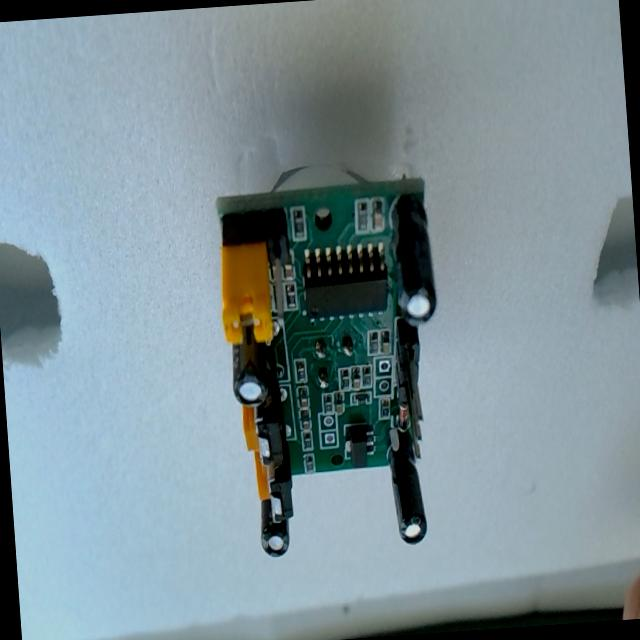Electrolytic capacitor: (387, 193, 439, 327), (386, 440, 428, 548), (227, 324, 270, 408), (258, 499, 290, 558)
IC: (301, 240, 391, 319)
pinheader: (390, 320, 428, 456)
